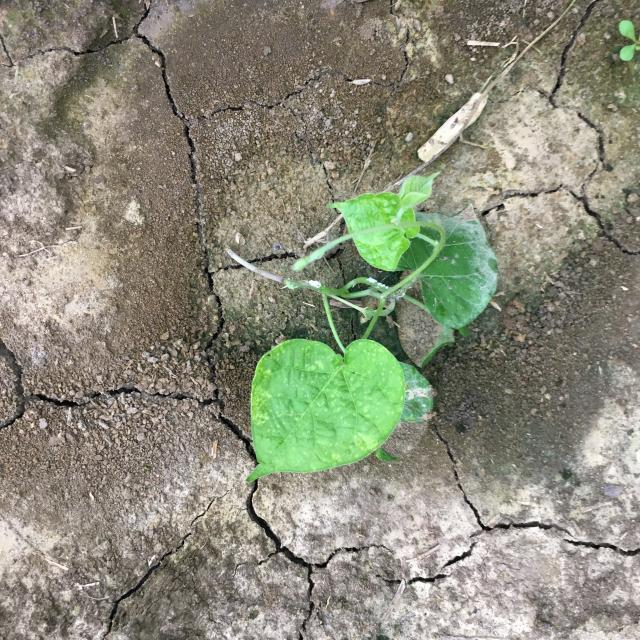MorningGlory: (226, 171, 499, 483)
